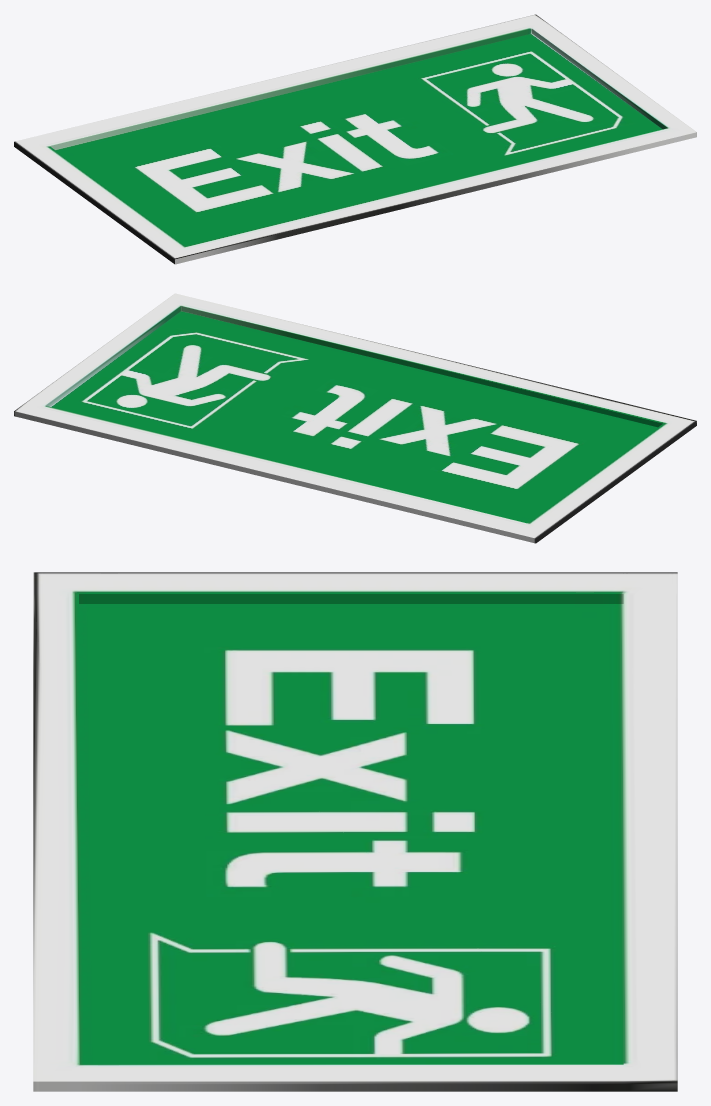
3 renders of one model, top to bottom at view 1: azimuth 30°, elevation 25°; view 2: azimuth 150°, elevation 25°; view 3: azimuth 270°, elevation 25°, orthographic. The views are drawn at different scales.
Visible parts, largest first — view 1: Plane; view 2: Plane; view 3: Plane.
Part boxes in pixels (x1,y1,x2,y2): Plane: (14,14,696,264); Plane: (14,293,696,543); Plane: (33,572,677,1091).
Size of the model in its own units: 374 by 3.42 by 200.
1 material, 1 textured.
